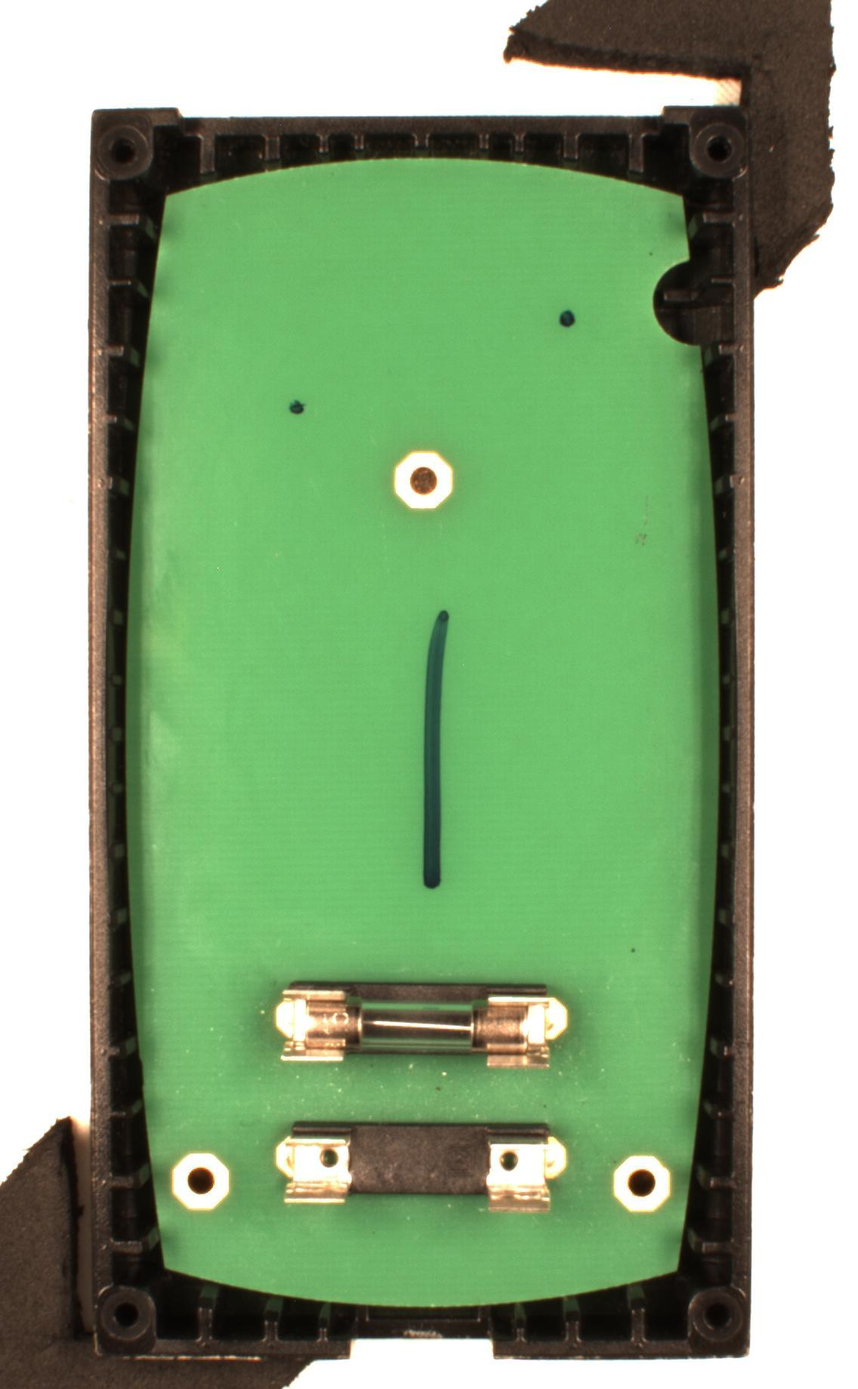Linijsko Ostecene: (416, 603, 456, 896)
Nepostojanje osiguraca: (270, 1114, 575, 1217)
Tockasto Ostecenje: (280, 394, 311, 418), (555, 308, 577, 331)
